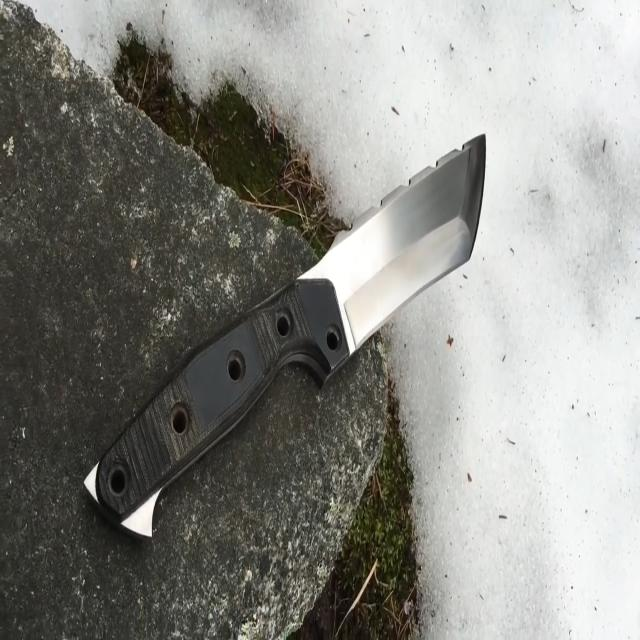knife: (80, 130, 492, 547)
